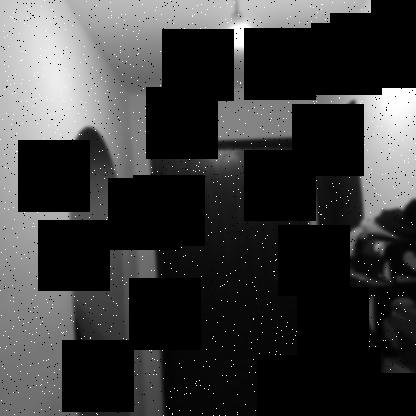Porte: (146, 136, 317, 416)
